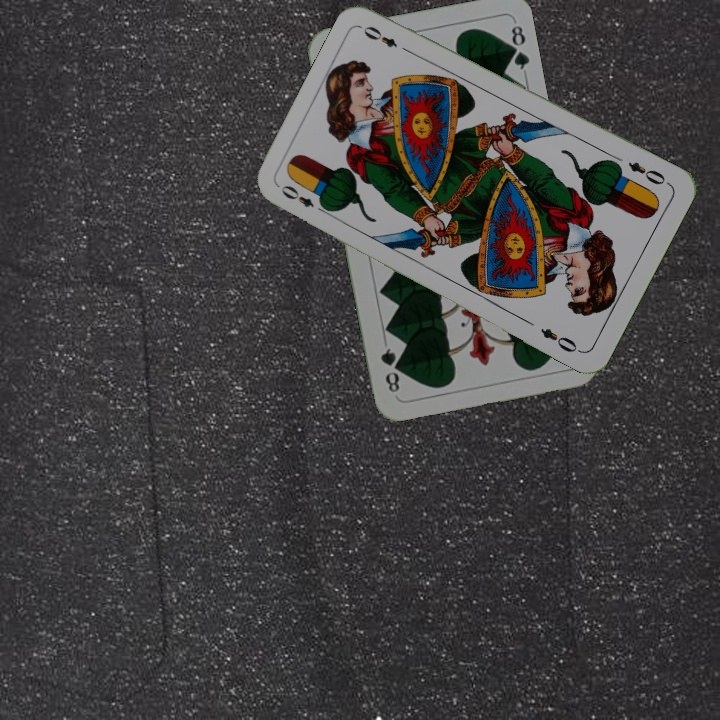EO: (276, 181, 331, 217), (624, 157, 673, 189)
